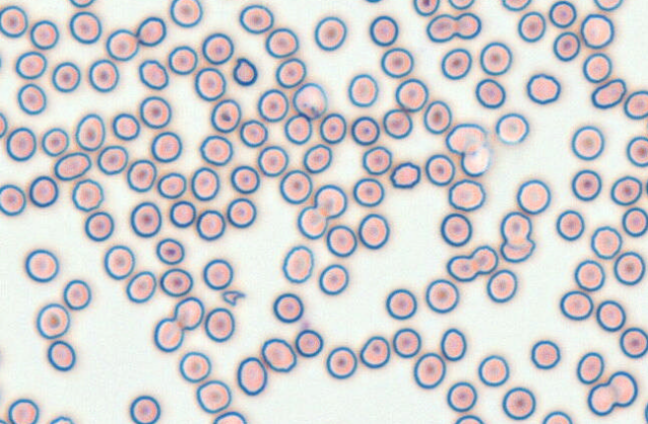RBC: (445, 122, 487, 154), (292, 82, 327, 119), (281, 244, 314, 283), (260, 337, 296, 372), (36, 302, 70, 339), (447, 178, 485, 211), (195, 379, 231, 413), (516, 178, 550, 214), (580, 13, 614, 49), (413, 352, 446, 389), (236, 356, 267, 395), (24, 248, 59, 282), (425, 278, 459, 313), (314, 15, 347, 51), (74, 113, 105, 151), (313, 184, 347, 218), (394, 78, 428, 112), (501, 386, 535, 420), (279, 169, 312, 204), (494, 112, 529, 145), (571, 125, 604, 160), (357, 213, 389, 249), (607, 370, 638, 407), (53, 151, 91, 181), (105, 28, 139, 61), (479, 41, 512, 75), (103, 244, 135, 279), (194, 66, 226, 101), (130, 201, 161, 237), (500, 211, 532, 245), (440, 212, 472, 246), (590, 225, 622, 259), (613, 251, 645, 285), (153, 317, 184, 352), (486, 268, 517, 303), (204, 307, 235, 342), (210, 98, 241, 133), (5, 126, 36, 161), (69, 11, 101, 44), (178, 351, 211, 383), (325, 346, 357, 379), (71, 178, 103, 211), (139, 95, 171, 128), (586, 382, 617, 416), (460, 143, 491, 177), (296, 205, 327, 239), (173, 296, 204, 330), (559, 289, 593, 320), (526, 73, 560, 104), (257, 88, 288, 122), (199, 134, 233, 165), (265, 27, 299, 58), (88, 58, 119, 92), (347, 73, 378, 107), (477, 354, 509, 386), (385, 288, 417, 320), (440, 47, 472, 79), (201, 32, 233, 64), (571, 168, 602, 201), (424, 153, 455, 186), (595, 299, 626, 332), (125, 270, 156, 303), (326, 224, 357, 257), (359, 335, 390, 368), (380, 47, 413, 78), (159, 267, 193, 297), (239, 4, 273, 34), (150, 131, 182, 162), (202, 258, 233, 290), (574, 259, 605, 291), (318, 263, 349, 295), (126, 159, 156, 192), (423, 100, 452, 134), (190, 166, 219, 200), (272, 292, 303, 323), (446, 381, 477, 412), (257, 145, 288, 176), (97, 144, 128, 175), (275, 57, 306, 88), (555, 209, 585, 241), (352, 177, 384, 207), (28, 175, 58, 207), (610, 175, 642, 205), (582, 52, 612, 83), (361, 145, 392, 175), (226, 197, 256, 228), (84, 210, 114, 241), (382, 108, 412, 139), (138, 59, 168, 90), (426, 13, 458, 42), (15, 50, 47, 79), (47, 339, 76, 371), (17, 83, 46, 115), (446, 254, 479, 282), (576, 351, 604, 384), (530, 339, 560, 369), (167, 45, 197, 75), (475, 78, 505, 108), (230, 164, 260, 194), (136, 16, 166, 46), (29, 19, 59, 49), (392, 327, 421, 358), (517, 11, 546, 42), (196, 209, 225, 240), (129, 394, 160, 423), (369, 15, 398, 46), (51, 61, 80, 92), (0, 5, 28, 37), (169, 0, 202, 27), (440, 327, 466, 361), (303, 143, 332, 173), (350, 115, 379, 145), (284, 113, 312, 144), (389, 161, 420, 189), (619, 327, 647, 358), (63, 279, 91, 310), (319, 112, 346, 144), (0, 183, 26, 216), (469, 245, 498, 274), (552, 31, 580, 61), (294, 329, 323, 357), (239, 119, 268, 147), (157, 171, 186, 199), (155, 237, 184, 265), (41, 127, 69, 156), (111, 112, 140, 140), (621, 206, 647, 237), (7, 398, 39, 423), (548, 0, 576, 28), (169, 200, 196, 228), (455, 12, 481, 39), (623, 90, 647, 119), (626, 135, 647, 167), (212, 410, 246, 423), (412, 0, 439, 16), (541, 410, 572, 423), (501, 0, 531, 11), (593, 0, 623, 11), (453, 414, 484, 423), (447, 0, 474, 10), (0, 111, 8, 138), (68, 0, 95, 8), (48, 415, 74, 423), (643, 401, 648, 423), (644, 177, 648, 197), (363, 0, 383, 3), (0, 418, 9, 423)
Schistocyte: (590, 78, 627, 110), (500, 240, 537, 263), (232, 58, 259, 86), (222, 290, 246, 307)
